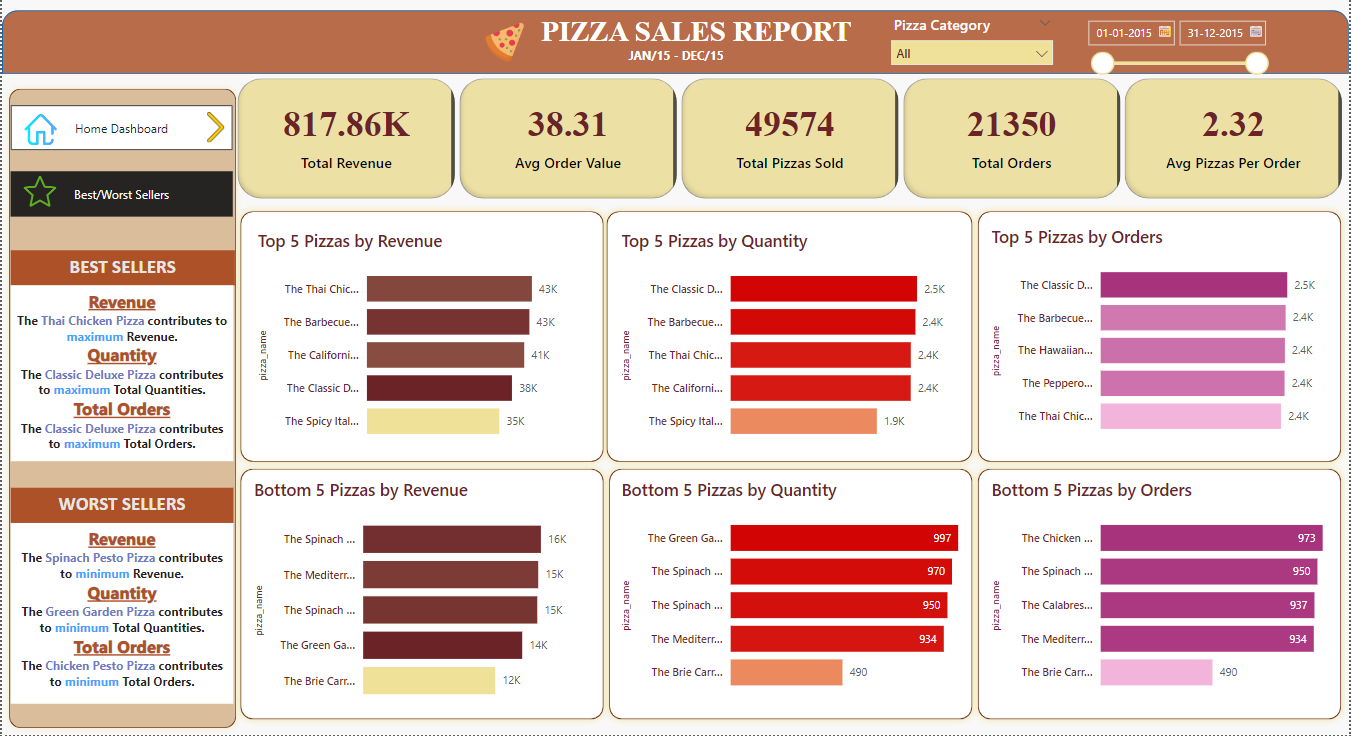

This screenshot's page, from the dashboard's own definition file:
{"tool":"powerbi","page":{"name":"Best/Worst Sellers","canvas":[1500,820],"ordinal":1},"visuals":[{"type":"cardVisual","fields":{"Data":["pizza_sales.Total Revenue","pizza_sales.Avg Order Value","pizza_sales.Total Pizzas Sold","pizza_sales.Total Orders","pizza_sales.Avg Pizzas Per Order"]},"box":[257.6,83.5,1241.8,144.8],"z":0},{"type":"shape","box":[0,12.5,1500,70.8],"z":1000},{"type":"textbox","box":[504,12,538.7,60],"z":2000},{"type":"textbox","box":[677.3,49.3,145.3,33.3],"z":3000},{"type":"image","box":[514.7,21.3,89.3,54.7],"z":4000},{"type":"shape","box":[257.6,228.3,420.4,295.1],"z":5000},{"type":"shape","box":[0,91.9,268.7,728.1],"z":15000},{"type":"textbox","box":[9.7,279.8,249.2,39],"z":16000},{"type":"textbox","box":[9.7,318.8,247.8,196.3],"z":17000},{"type":"textbox","box":[9.7,583.3,247.8,201.9],"z":18000},{"type":"textbox","box":[9.7,544.3,247.8,39],"z":19000},{"type":"slicer","fields":{"Values":["pizza_sales.pizza_category"]},"box":[980.1,12.5,200.5,69.6],"z":20000},{"type":"slicer","fields":{"Values":["pizza_sales.order_date"]},"box":[1197.3,13.9,221.4,80.7],"z":21000},{"type":"shape","box":[257.6,515.1,420.4,295.1],"z":21001},{"type":"shape","box":[665.5,228.3,423.2,295.1],"z":21002},{"type":"shape","box":[1078.9,228.3,420.4,295.1],"z":21003},{"type":"shape","box":[668.3,515.1,420.4,295.1],"z":21004},{"type":"shape","box":[1078.9,515.1,420.4,295.1],"z":21005},{"type":"barChart","title":"Top 5 Pizzas by Revenue ","fields":{"Category":["pizza_sales.pizza_name"],"Y":["pizza_sales.Total Revenue"]},"box":[279.8,256.2,385.6,249.2],"z":21006},{"type":"barChart","title":"Bottom 5 Pizzas by Revenue ","fields":{"Category":["pizza_sales.pizza_name"],"Y":["pizza_sales.Total Revenue"]},"box":[275.7,533.2,385.6,263.1],"z":21007},{"type":"barChart","title":"Top 5 Pizzas by Quantity","fields":{"Category":["pizza_sales.pizza_name"],"Y":["pizza_sales.Total Pizzas Sold"]},"box":[685,256.2,385.6,249.2],"z":21008},{"type":"barChart","title":"Bottom 5 Pizzas by Quantity","fields":{"Category":["pizza_sales.pizza_name"],"Y":["pizza_sales.Total Pizzas Sold"]},"box":[685,533.9,385.9,252.5],"z":21009},{"type":"barChart","title":"Top 5 Pizzas by Orders","fields":{"Category":["pizza_sales.pizza_name"],"Y":["pizza_sales.Total Pizzas Sold"]},"box":[1096.7,252.5,385.9,247.6],"z":21010},{"type":"barChart","title":"Bottom 5 Pizzas by Orders","fields":{"Category":["pizza_sales.pizza_name"],"Y":["pizza_sales.Total Pizzas Sold"]},"box":[1096.7,533.9,385.9,252.5],"z":21011},{"type":"pageNavigator","box":[9.7,118.3,247.8,50.1],"z":21012},{"type":"pageNavigator","box":[9.7,192.1,247.8,50.1],"z":21013},{"type":"image","box":[174,121.1,128.1,43.2],"z":21014},{"type":"image","box":[19.5,186.6,45.9,55.7],"z":21015},{"type":"image","box":[13.9,122.5,58.5,45.9],"z":21016}]}

Visuals, with their boxes in screenshot pixels (x1, y1, x2, y2), scaled from the page's 1500x820 canvas onto the 1351x736 screenshot:
cardVisual - pizza_sales.Total Revenue x pizza_sales.Avg Order Value: pyautogui.locateOnScreen(232, 75, 1350, 205)
shape: pyautogui.locateOnScreen(0, 11, 1350, 75)
textbox: pyautogui.locateOnScreen(454, 11, 939, 65)
textbox: pyautogui.locateOnScreen(610, 44, 741, 74)
image: pyautogui.locateOnScreen(464, 19, 544, 68)
shape: pyautogui.locateOnScreen(232, 205, 611, 470)
shape: pyautogui.locateOnScreen(0, 82, 242, 735)
textbox: pyautogui.locateOnScreen(9, 251, 233, 286)
textbox: pyautogui.locateOnScreen(9, 286, 232, 462)
textbox: pyautogui.locateOnScreen(9, 524, 232, 705)
textbox: pyautogui.locateOnScreen(9, 489, 232, 524)
slicer - pizza_sales.pizza_category: pyautogui.locateOnScreen(883, 11, 1063, 74)
slicer - pizza_sales.order_date: pyautogui.locateOnScreen(1078, 12, 1278, 85)
shape: pyautogui.locateOnScreen(232, 462, 611, 727)
shape: pyautogui.locateOnScreen(599, 205, 981, 470)
shape: pyautogui.locateOnScreen(972, 205, 1350, 470)
shape: pyautogui.locateOnScreen(602, 462, 981, 727)
shape: pyautogui.locateOnScreen(972, 462, 1350, 727)
"Top 5 Pizzas by Revenue " barChart: pyautogui.locateOnScreen(252, 230, 599, 454)
"Bottom 5 Pizzas by Revenue " barChart: pyautogui.locateOnScreen(248, 479, 596, 715)
"Top 5 Pizzas by Quantity" barChart: pyautogui.locateOnScreen(617, 230, 964, 454)
"Bottom 5 Pizzas by Quantity" barChart: pyautogui.locateOnScreen(617, 479, 965, 706)
"Top 5 Pizzas by Orders" barChart: pyautogui.locateOnScreen(988, 227, 1335, 449)
"Bottom 5 Pizzas by Orders" barChart: pyautogui.locateOnScreen(988, 479, 1335, 706)
pageNavigator: pyautogui.locateOnScreen(9, 106, 232, 151)
pageNavigator: pyautogui.locateOnScreen(9, 172, 232, 217)
image: pyautogui.locateOnScreen(157, 109, 272, 147)
image: pyautogui.locateOnScreen(18, 167, 59, 217)
image: pyautogui.locateOnScreen(13, 110, 65, 151)
